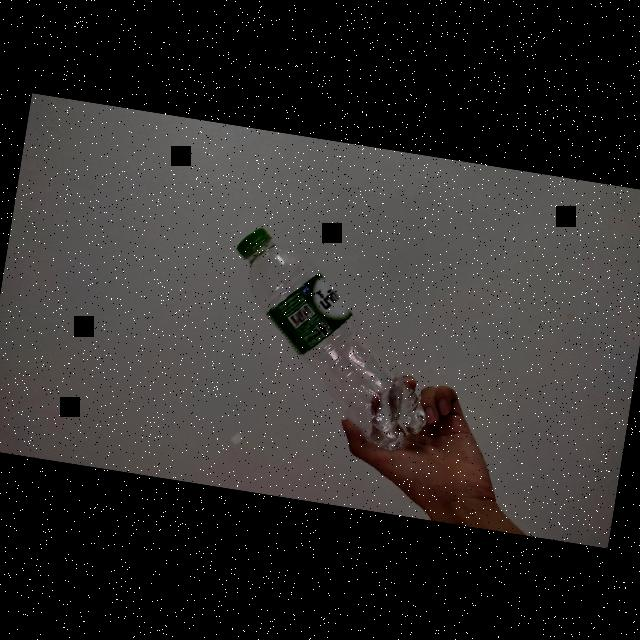plastic_bottle: (205, 222, 458, 462)
plastic_bottle_cap: (233, 224, 274, 264)
